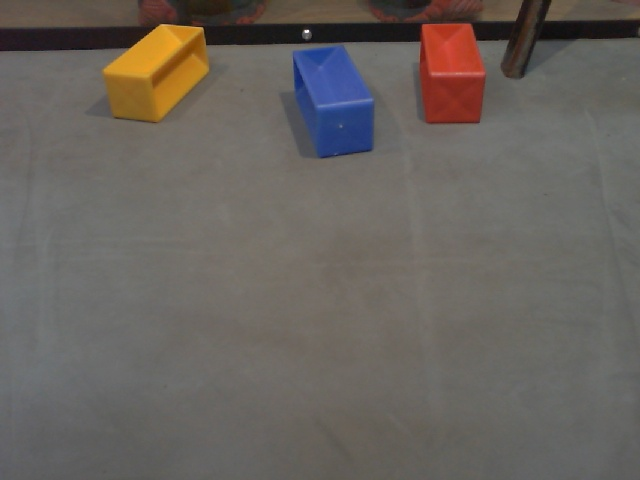BlueSample: (285, 43, 379, 162)
RedSample: (413, 18, 487, 125)
YellowSample: (101, 22, 213, 128)
